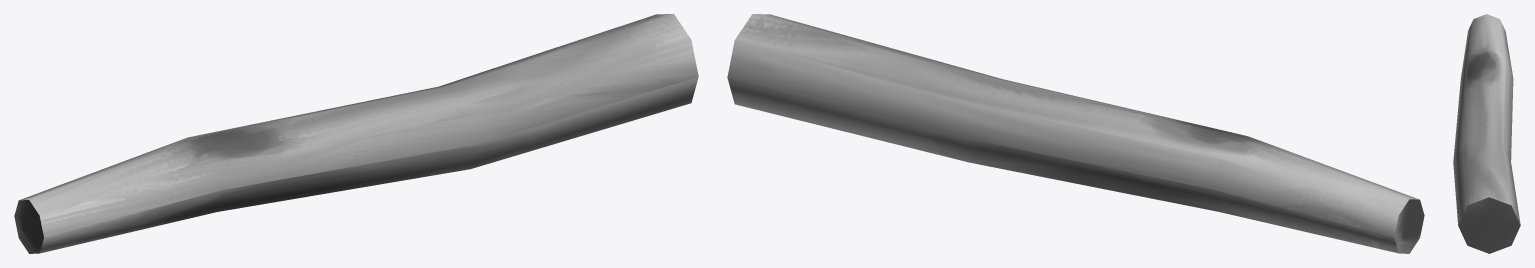
File: env_tree_spruce_dead_05.fbx
3 renders of one model, left to right at view 1: azimuth 30°, elevation 25°; view 2: azimuth 150°, elevation 25°; view 3: azimuth 270°, elevation 25°, orthographic. The views are drawn at different scales.
Visible parts, largest first — view 1: env_tree_dead_2352246; view 2: env_tree_dead_2352246; view 3: env_tree_dead_2352246.
Part boxes in pixels (x1,y1,x2,y2): env_tree_dead_2352246: (14, 14, 698, 253); env_tree_dead_2352246: (727, 14, 1424, 253); env_tree_dead_2352246: (1453, 14, 1520, 253).
Size of the model in its own units: 206 by 29.23 by 29.33.
1 material, 1 textured.
